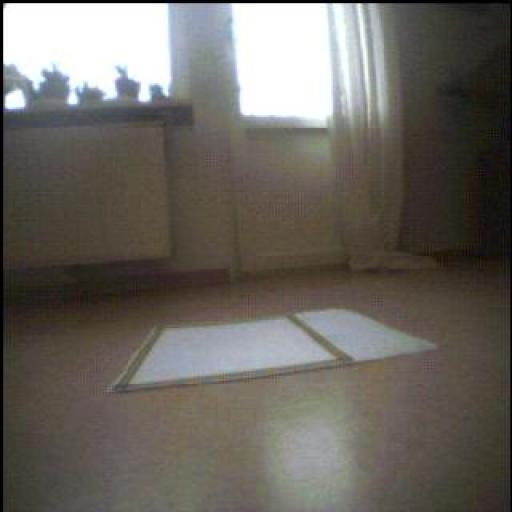Pad: (113, 310, 436, 391)
